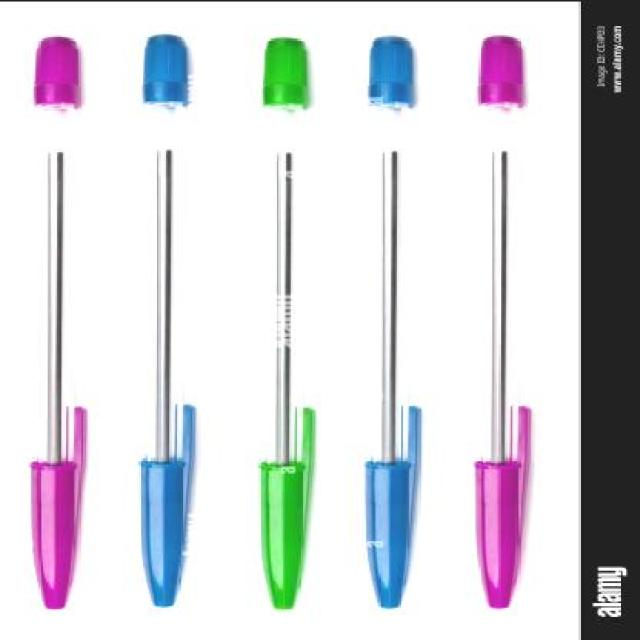pen: (248, 39, 316, 614), (472, 29, 538, 609), (137, 34, 193, 607), (359, 34, 414, 610), (29, 36, 82, 608)
